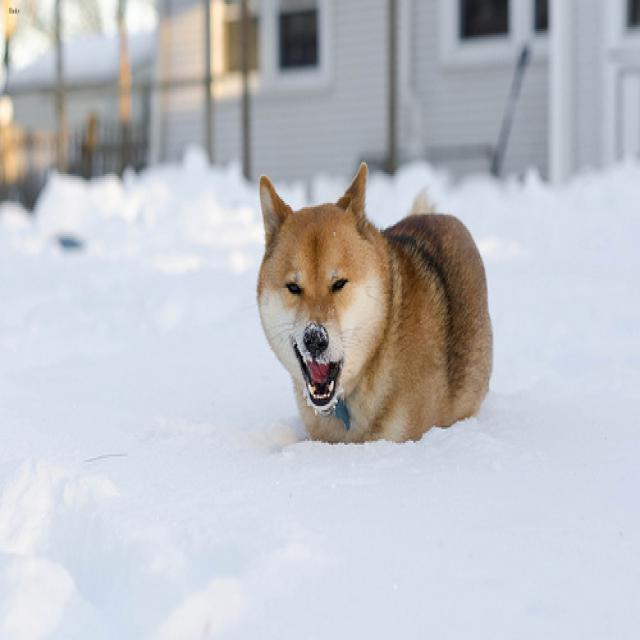dog-shiba_inu: (248, 157, 497, 449)
